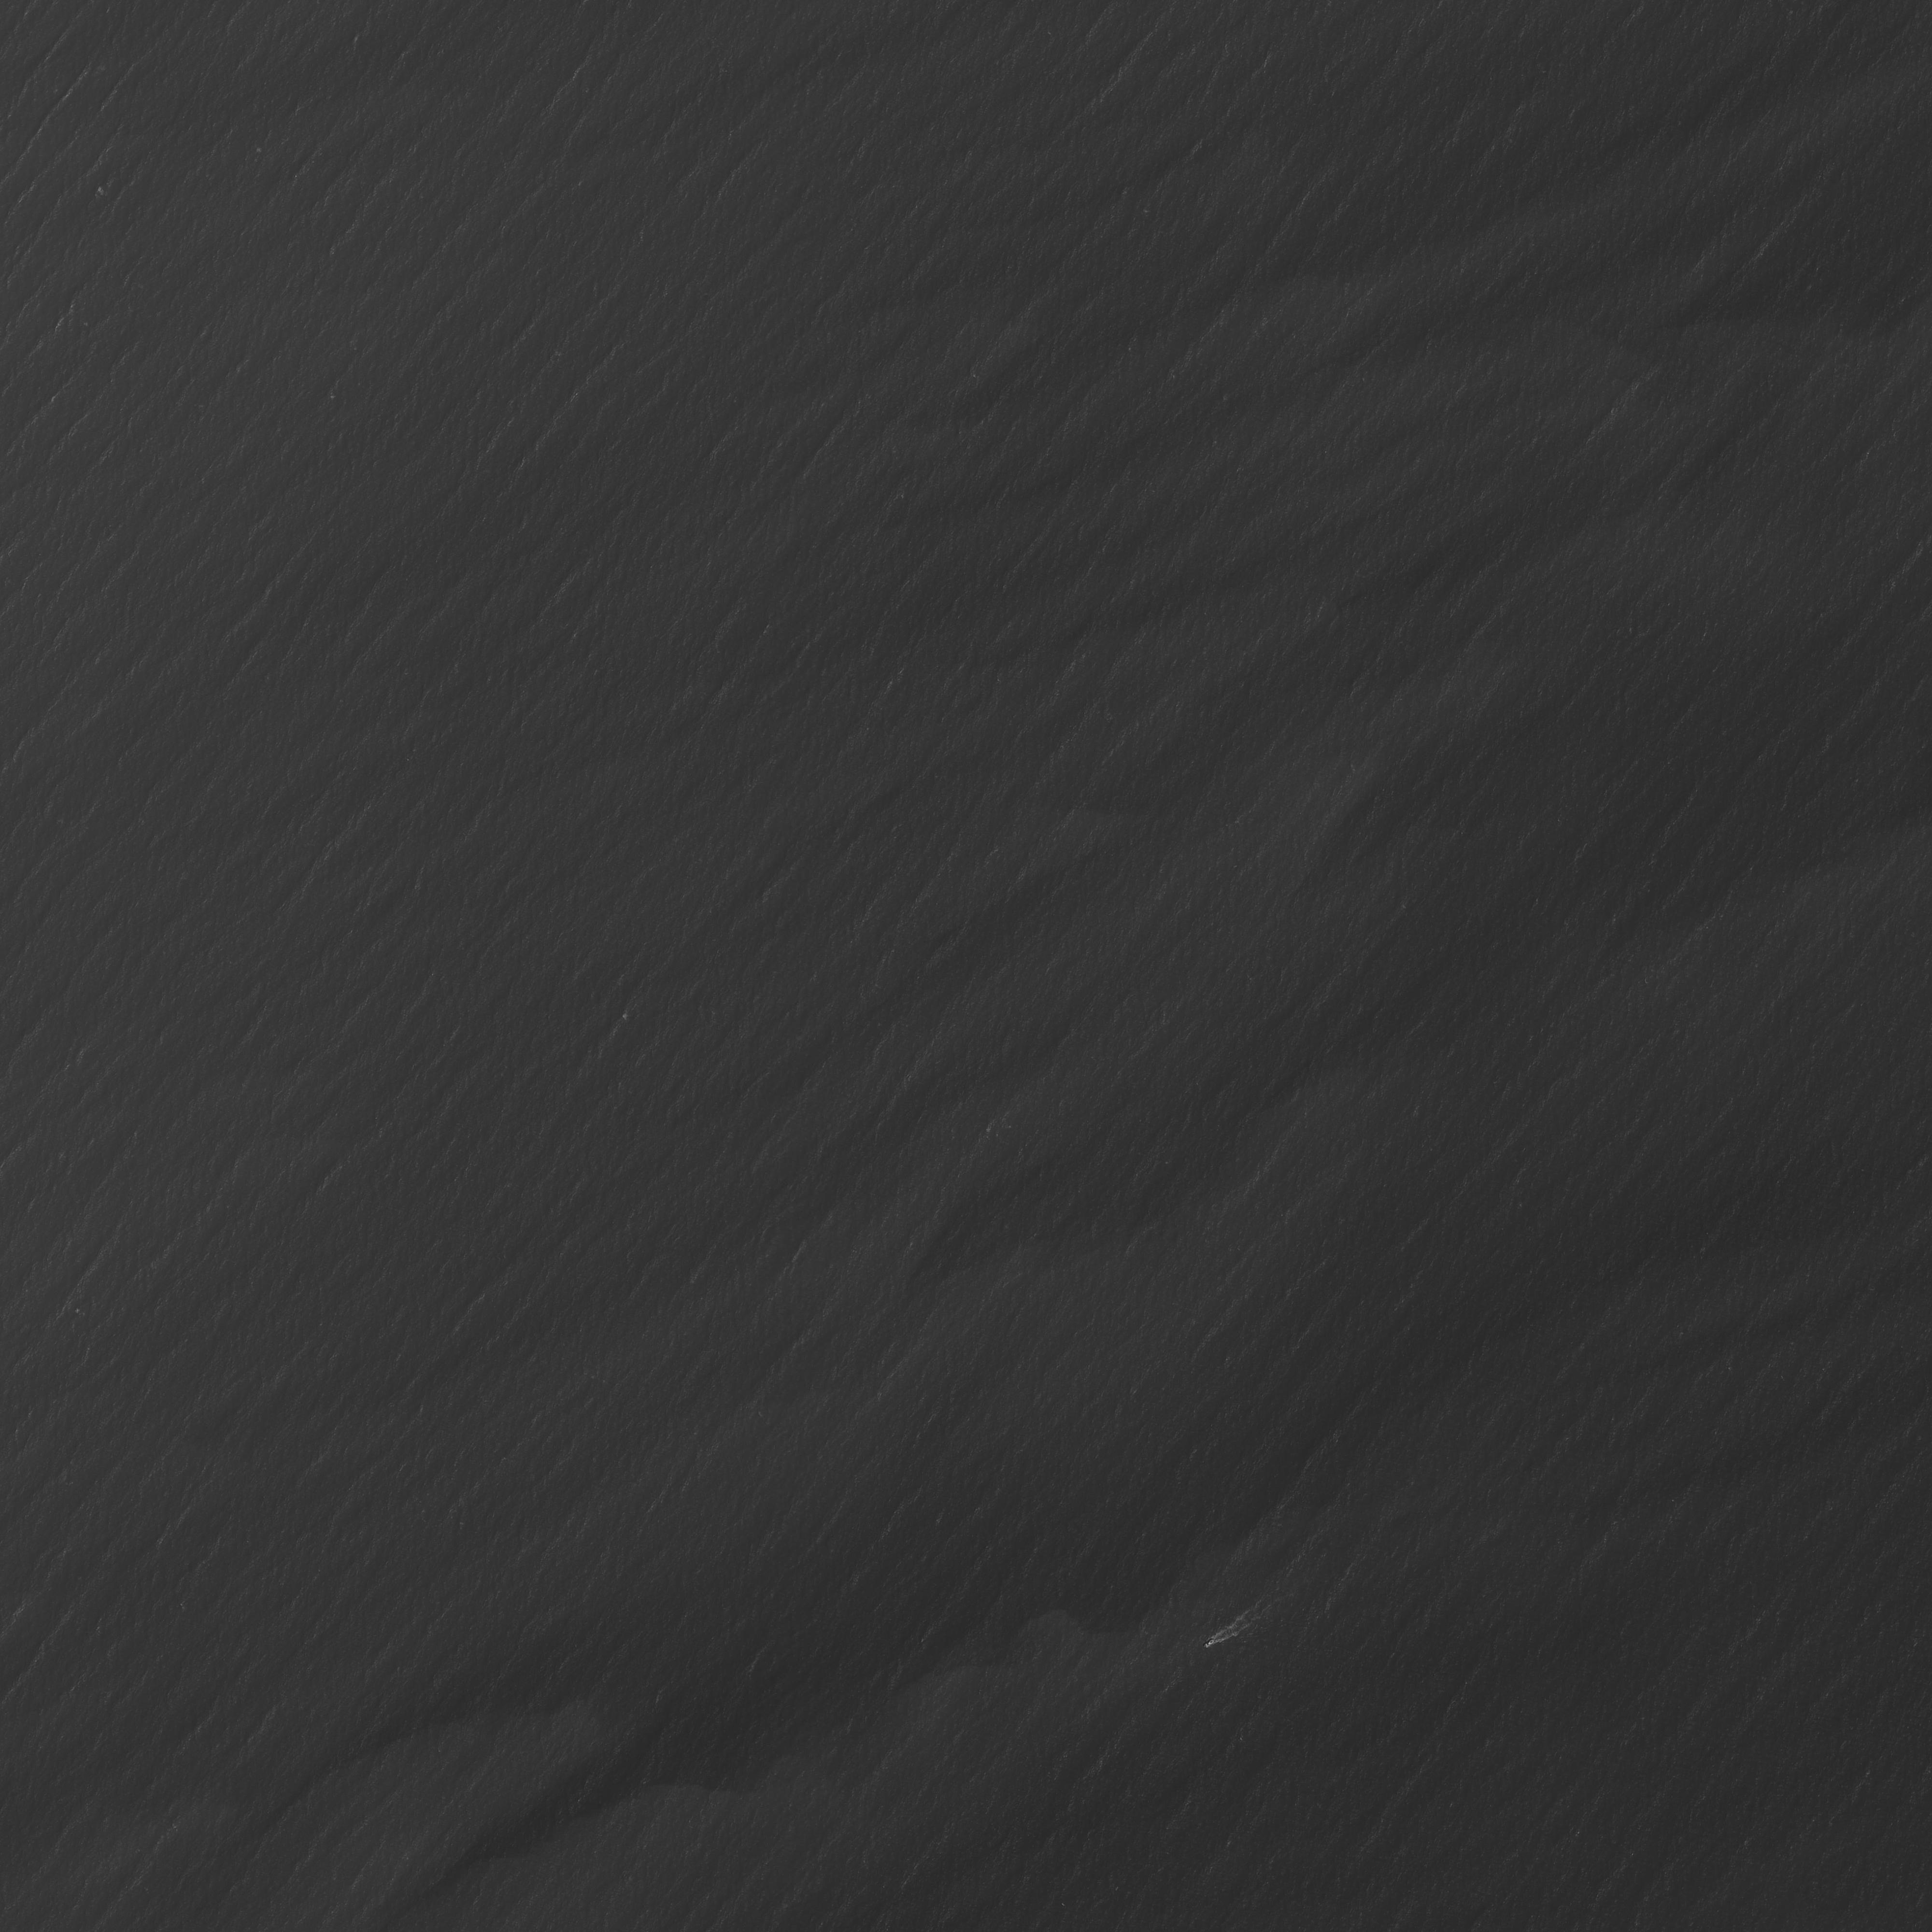ship: (1203, 1636, 1216, 1650)
